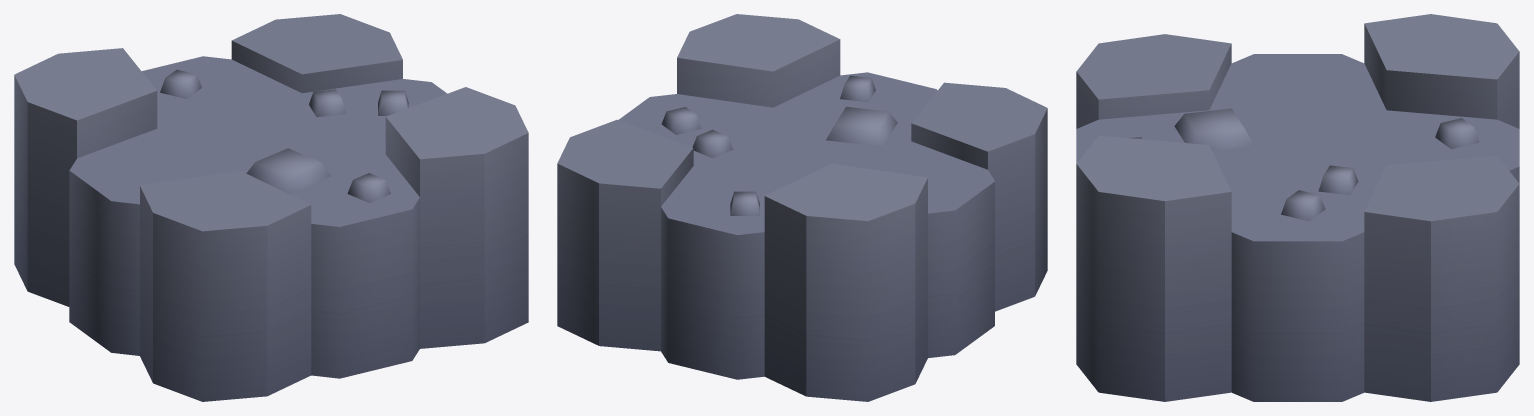
The model's file is rocks.glb.
3 views of the same model, side by side, from view 1: azimuth 30°, elevation 25°; view 2: azimuth 150°, elevation 25°; view 3: azimuth 270°, elevation 25° (orthographic). The views are drawn at different scales.
Parts seen in each view (by area): view 1: rocks; view 2: rocks; view 3: rocks.
Boxes of the visible parts, x1,y1,x2,y2 form: rocks: (14,14,528,401); rocks: (557,14,1047,401); rocks: (1076,14,1519,401).
Bounding box in the file's own units: 1 × 0.5 × 1.
